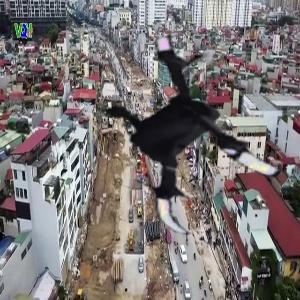drone: (70, 16, 294, 240)
